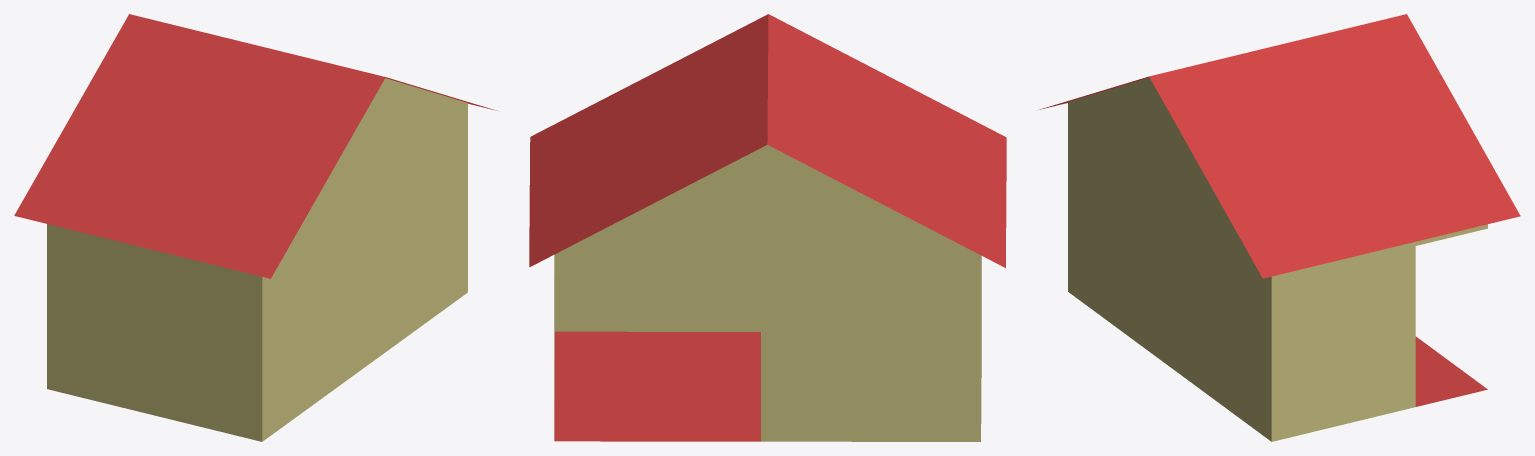
3 views of the same model, side by side, from view 1: azimuth 30°, elevation 25°; view 2: azimuth 150°, elevation 25°; view 3: azimuth 270°, elevation 25° (orthographic). The views are drawn at different scales.
Size of the model in its own units: 17.08 by 15.22 by 10.21.
